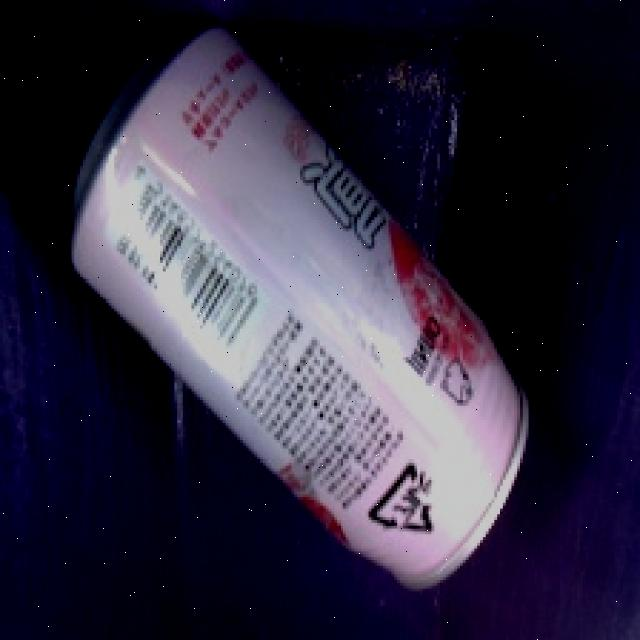metal: (31, 14, 554, 613)
